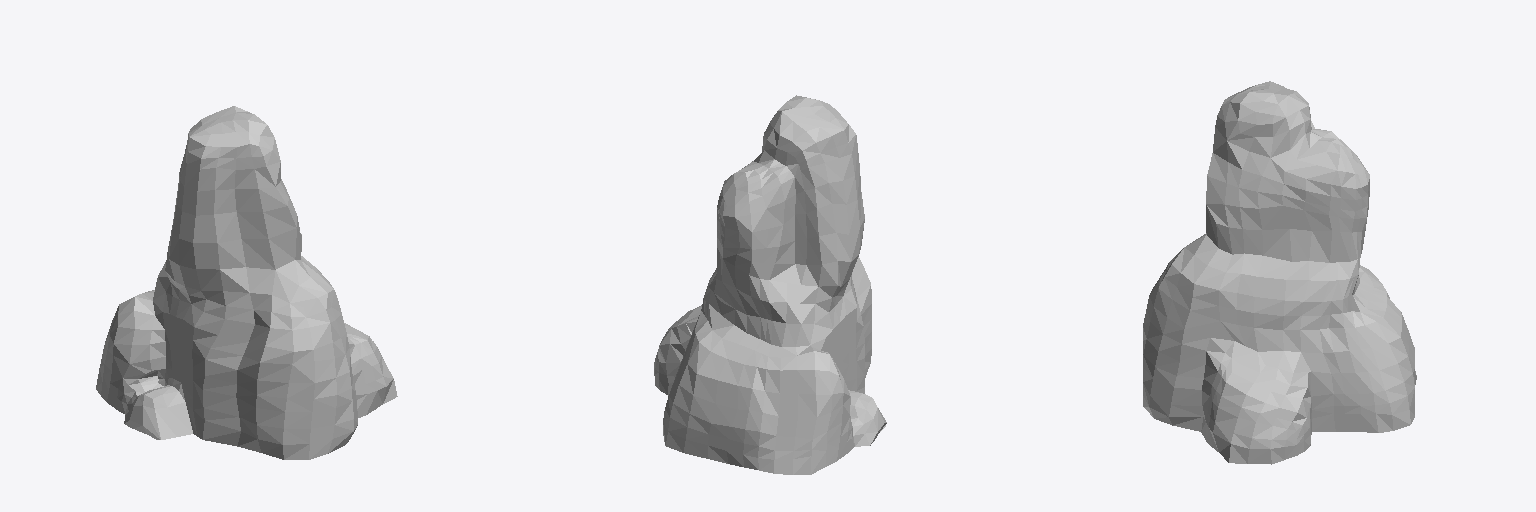
The model's file is Boulder_1.obj.
3 renders of one model, left to right at view 1: azimuth 30°, elevation 25°; view 2: azimuth 150°, elevation 25°; view 3: azimuth 270°, elevation 25°, orthographic.
Visible parts, largest first — view 1: polySurface191; view 2: polySurface191; view 3: polySurface191.
Part boxes in pixels (bbox=[...]): polySurface191: bbox=[96, 106, 397, 459]; polySurface191: bbox=[654, 95, 886, 474]; polySurface191: bbox=[1143, 81, 1416, 464].
Bounding box in the file's own units: 4.33 × 5.35 × 4.35.